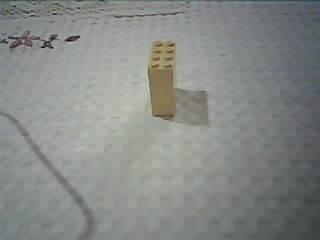lego: (147, 38, 177, 117)
